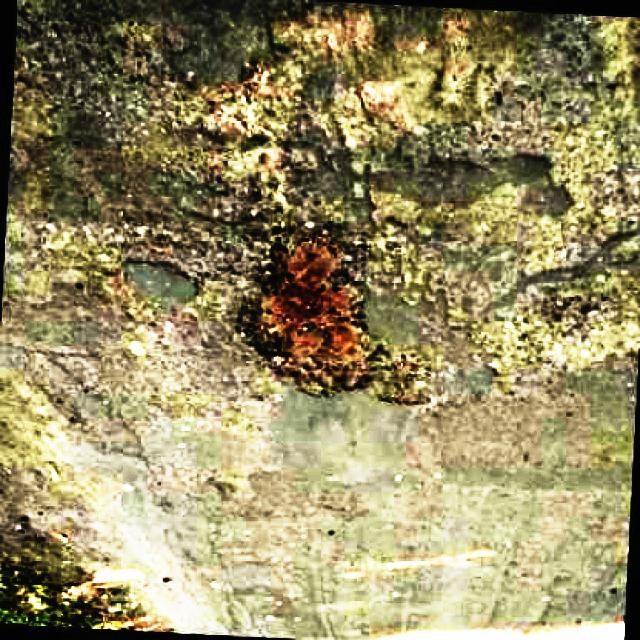pothole: (392, 2, 638, 222), (244, 217, 390, 401), (189, 40, 317, 208), (480, 263, 640, 392)
